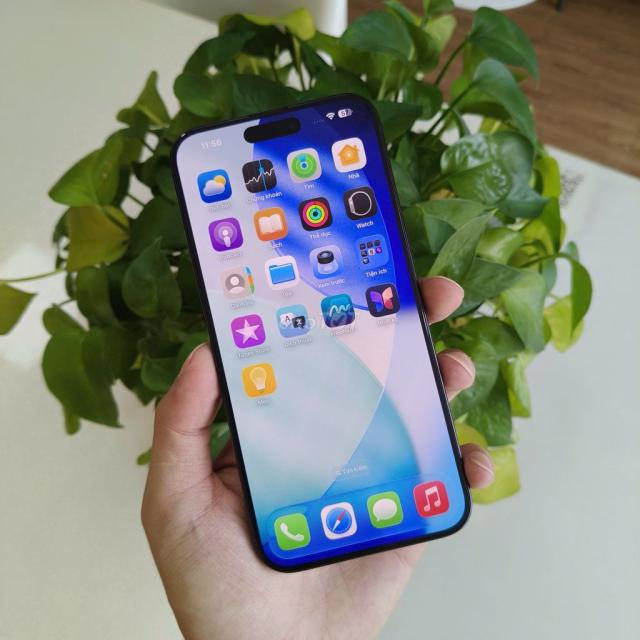scratch: (179, 131, 186, 138)
